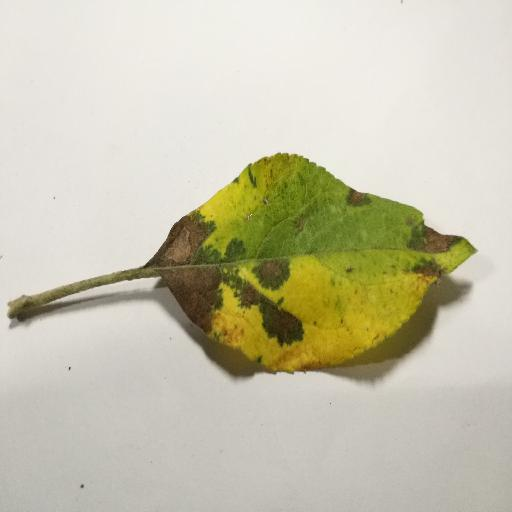Brown_Spot: (132, 197, 238, 352), (239, 242, 306, 351), (404, 226, 455, 293), (330, 181, 366, 214)
